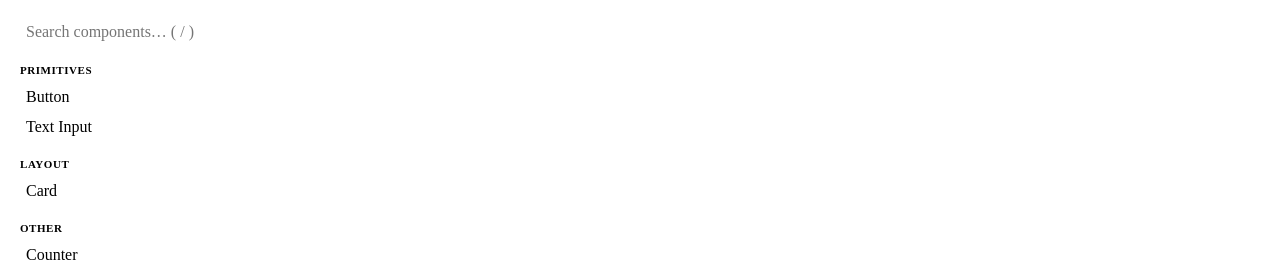
Test case: Sidebar › says so when nothing matches
Type "zzz" into the search field labelled "Search components".
click(636, 32); type("zzz")  # box [16,16,1256,48]
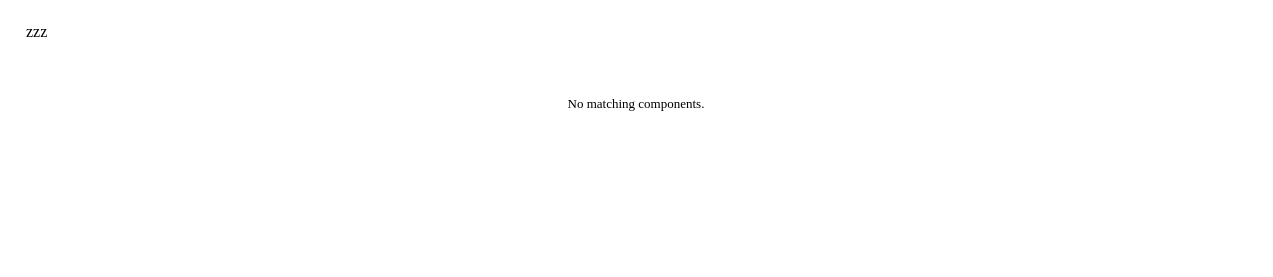
expect the message reads "No matching components.": met, box [568,96,704,111]
